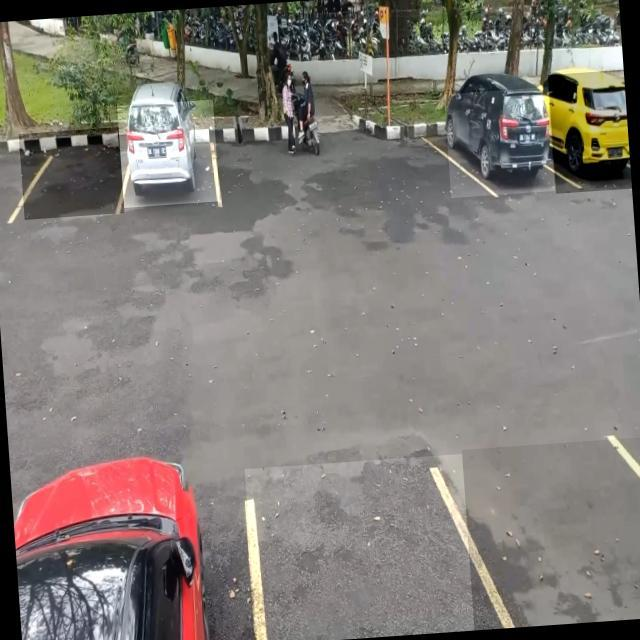empty: (244, 453, 474, 640), (461, 437, 640, 630), (18, 126, 124, 220)
occupied: (444, 86, 554, 198), (116, 99, 220, 207), (548, 69, 632, 193)
